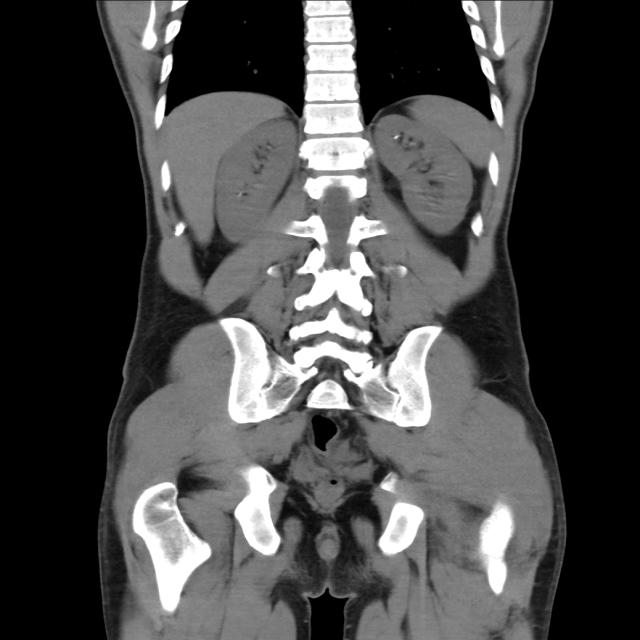kidneystone: (391, 132, 403, 140)
